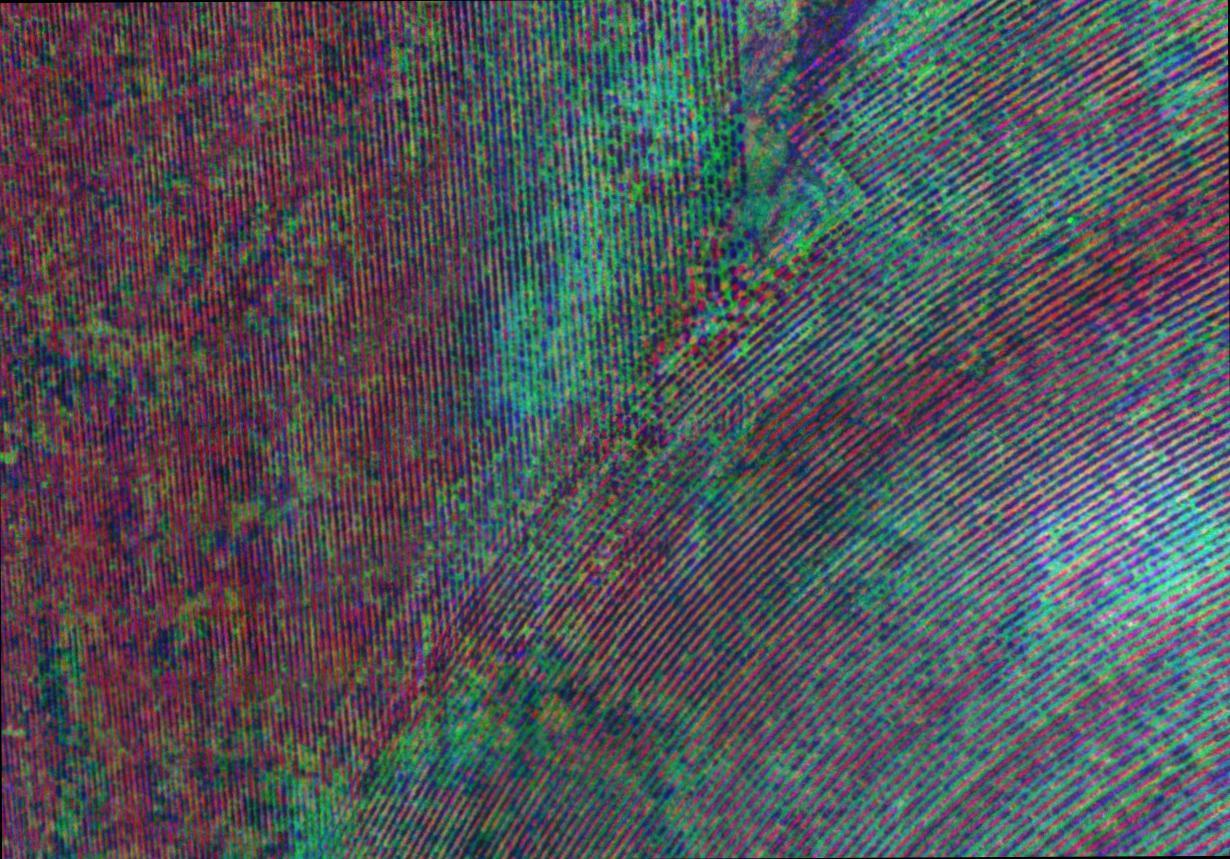dc: (782, 463, 960, 643), (493, 291, 594, 401), (545, 156, 636, 259), (1157, 506, 1230, 622), (294, 772, 380, 859), (743, 176, 824, 244), (868, 5, 952, 68)
